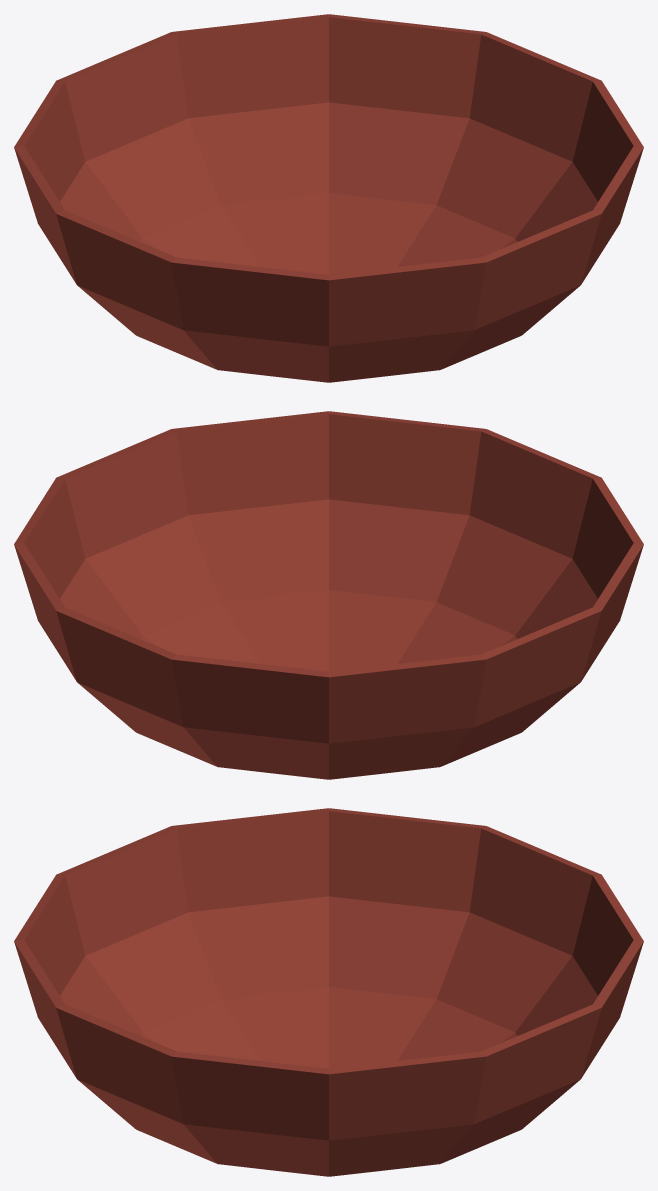
Rendered from Plate_4_Red.fbx.
3 views of the same model, one above another, from view 1: azimuth 30°, elevation 25°; view 2: azimuth 150°, elevation 25°; view 3: azimuth 270°, elevation 25° (orthographic).
Parts seen in each view (by area): view 1: Plate_4_Red; view 2: Plate_4_Red; view 3: Plate_4_Red.
Boxes of the visible parts, x1,y1,x2,y2 form: Plate_4_Red: (14,14,643,382); Plate_4_Red: (14,411,643,779); Plate_4_Red: (14,808,643,1176).
Bounding box in the file's own units: 30 × 9.77 × 30.
